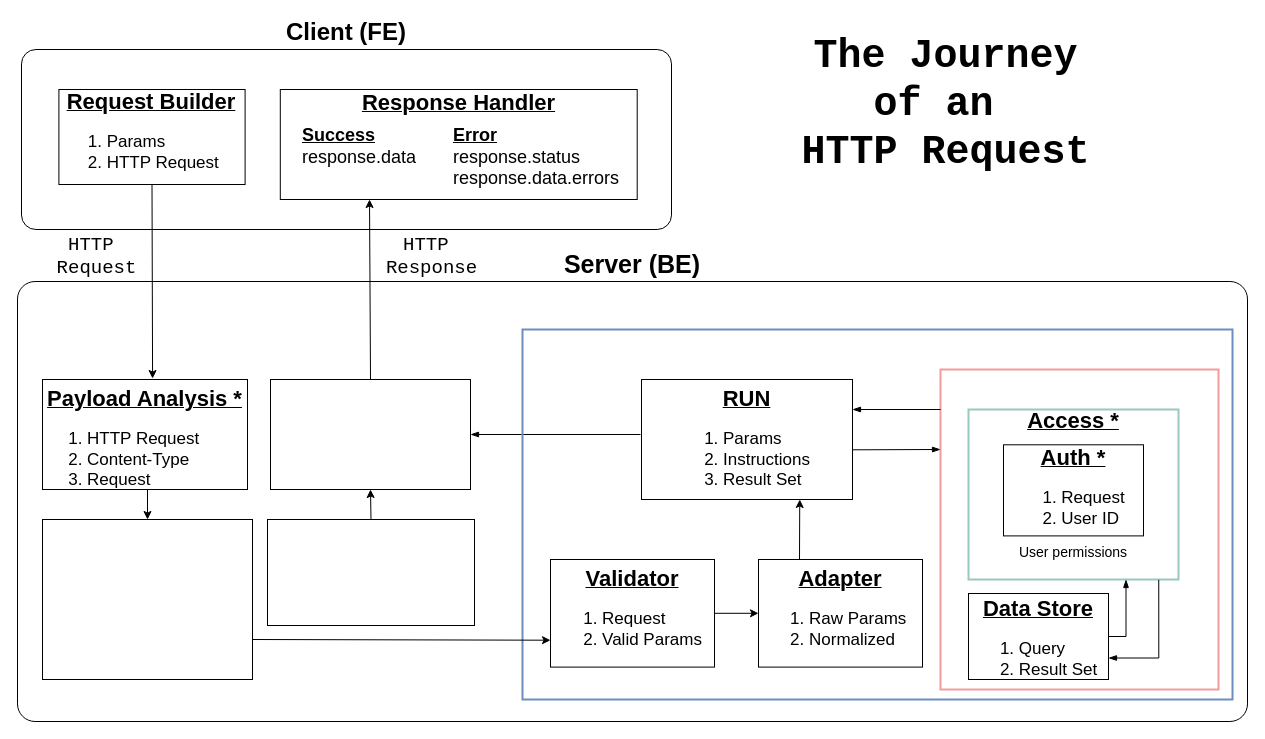
This 1265x739 diagram has some shape labels left out. The shapes that lost their labels are listed below. From the top down, each one's box as (x1, y1, x2, y2) in pixels, then its label:
(270, 378, 470, 490): Response Builder Body HTTP Response
(521, 328, 1233, 700): Controller
(939, 368, 1219, 690): ORM
(266, 518, 474, 626): Exception Hander * Exception Code, Status, MSG
(42, 518, 252, 680): Routing * URI Routes Def. Controller Path
